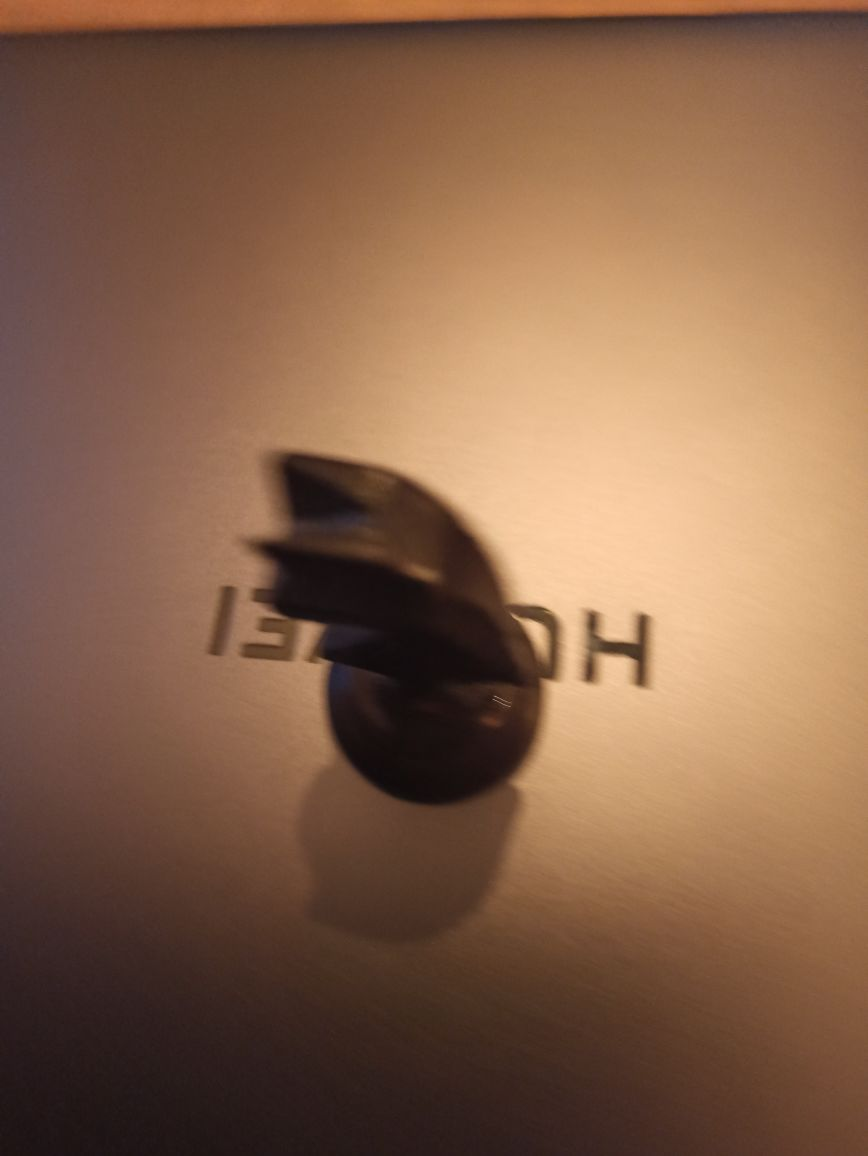bknight: (245, 442, 546, 811)
